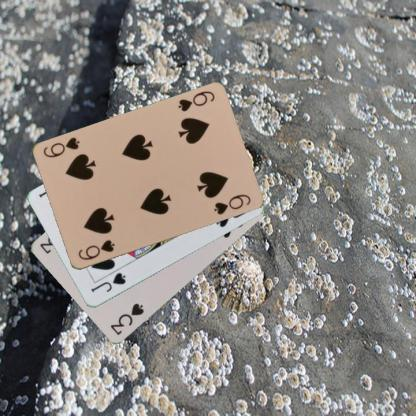3s: (107, 301, 146, 337)
6s: (75, 237, 116, 262), (175, 88, 216, 113)
Js: (88, 270, 127, 294)
